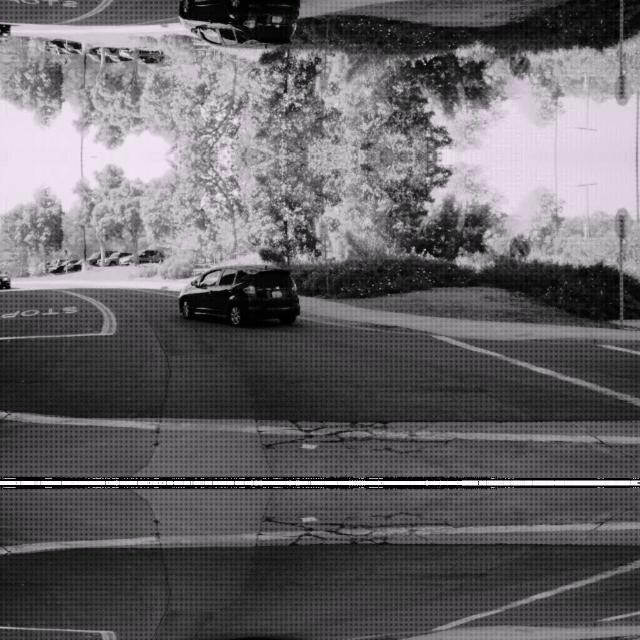pedestrianCrossing: (57, 244, 73, 258), (57, 54, 73, 68)
